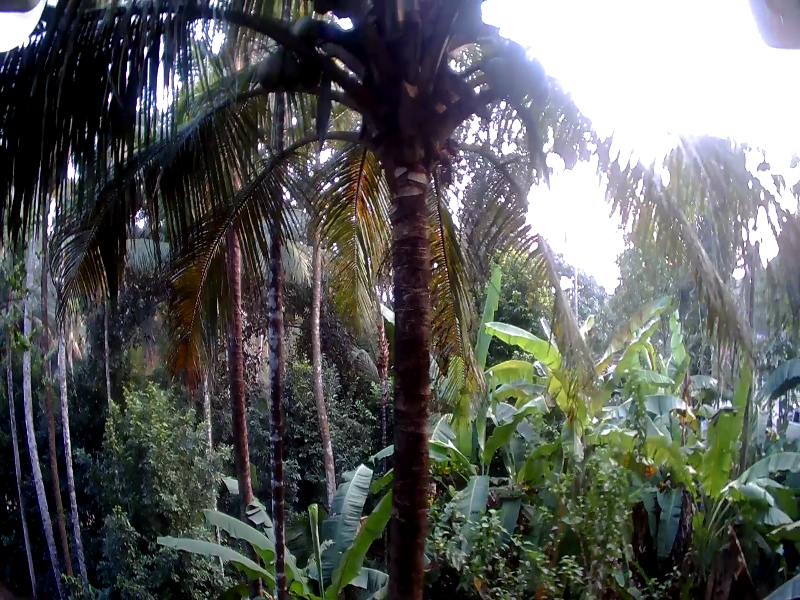coconut: (476, 53, 510, 88), (291, 19, 324, 48), (257, 58, 281, 93)
